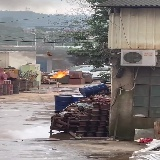fire: (50, 70, 68, 78)
